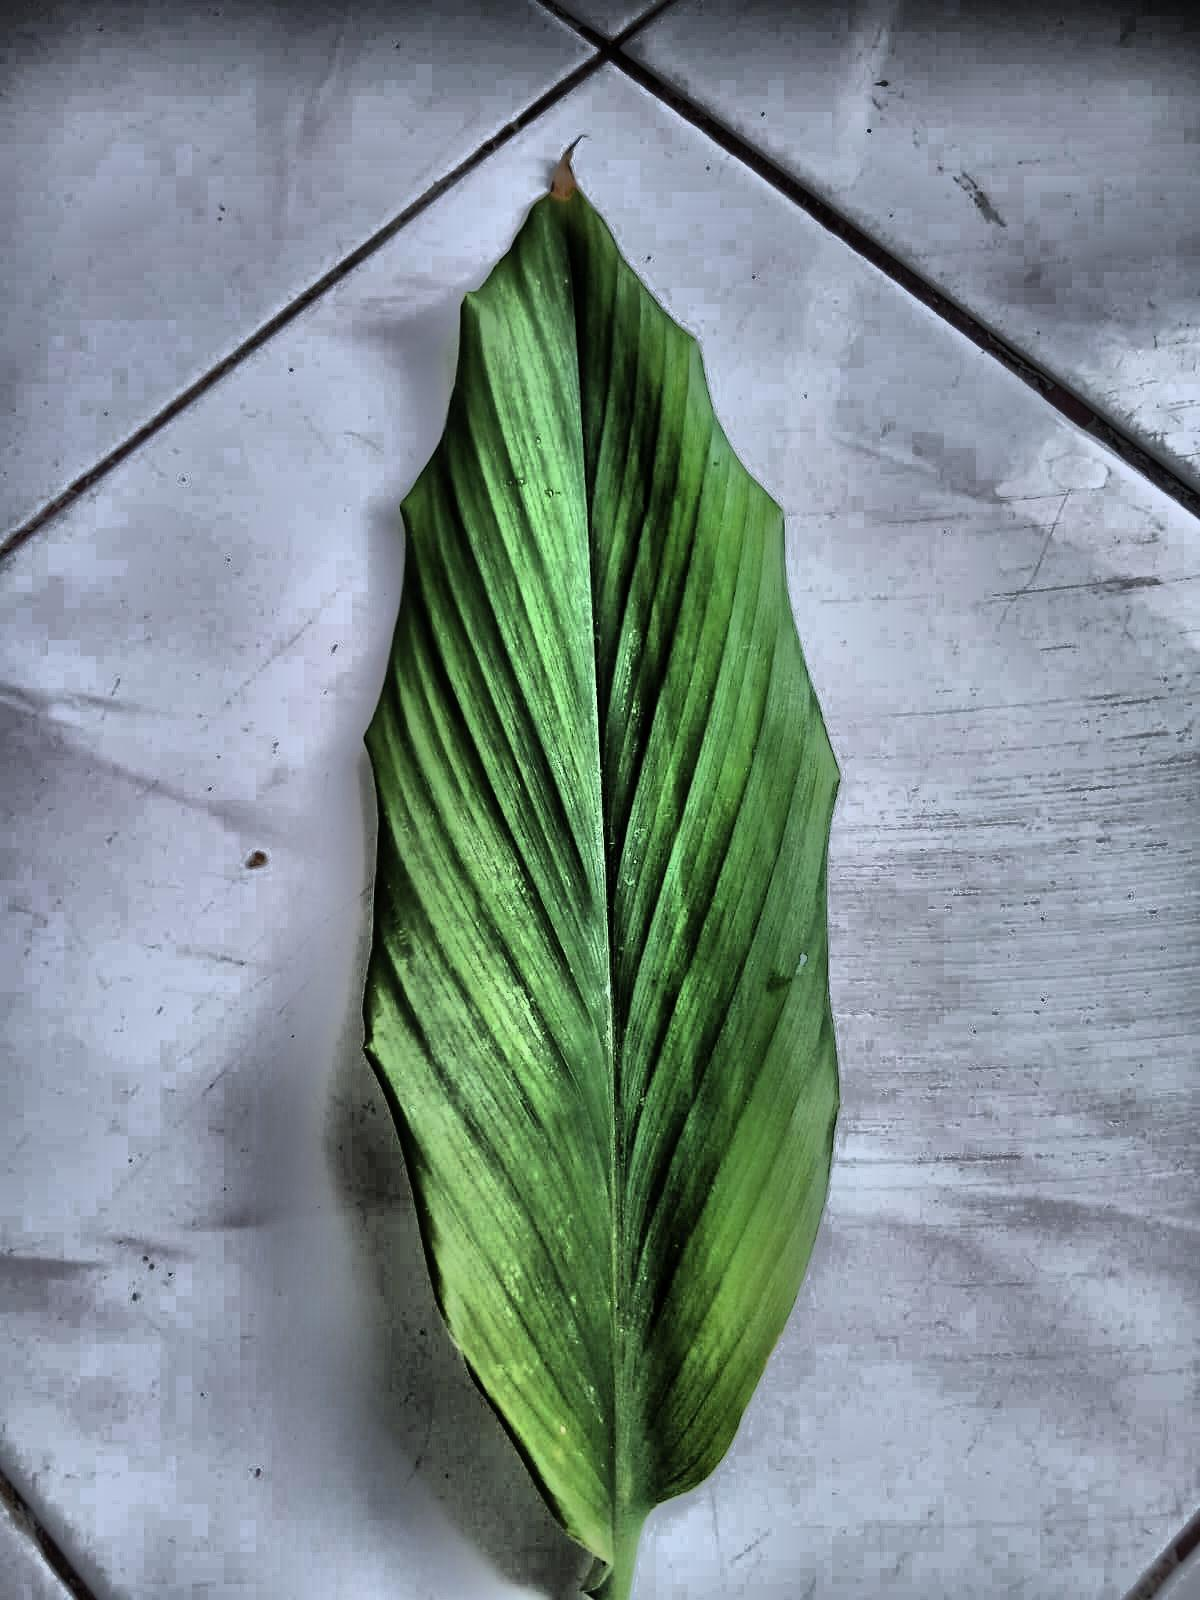daun kunyit: (364, 163, 838, 1599)
